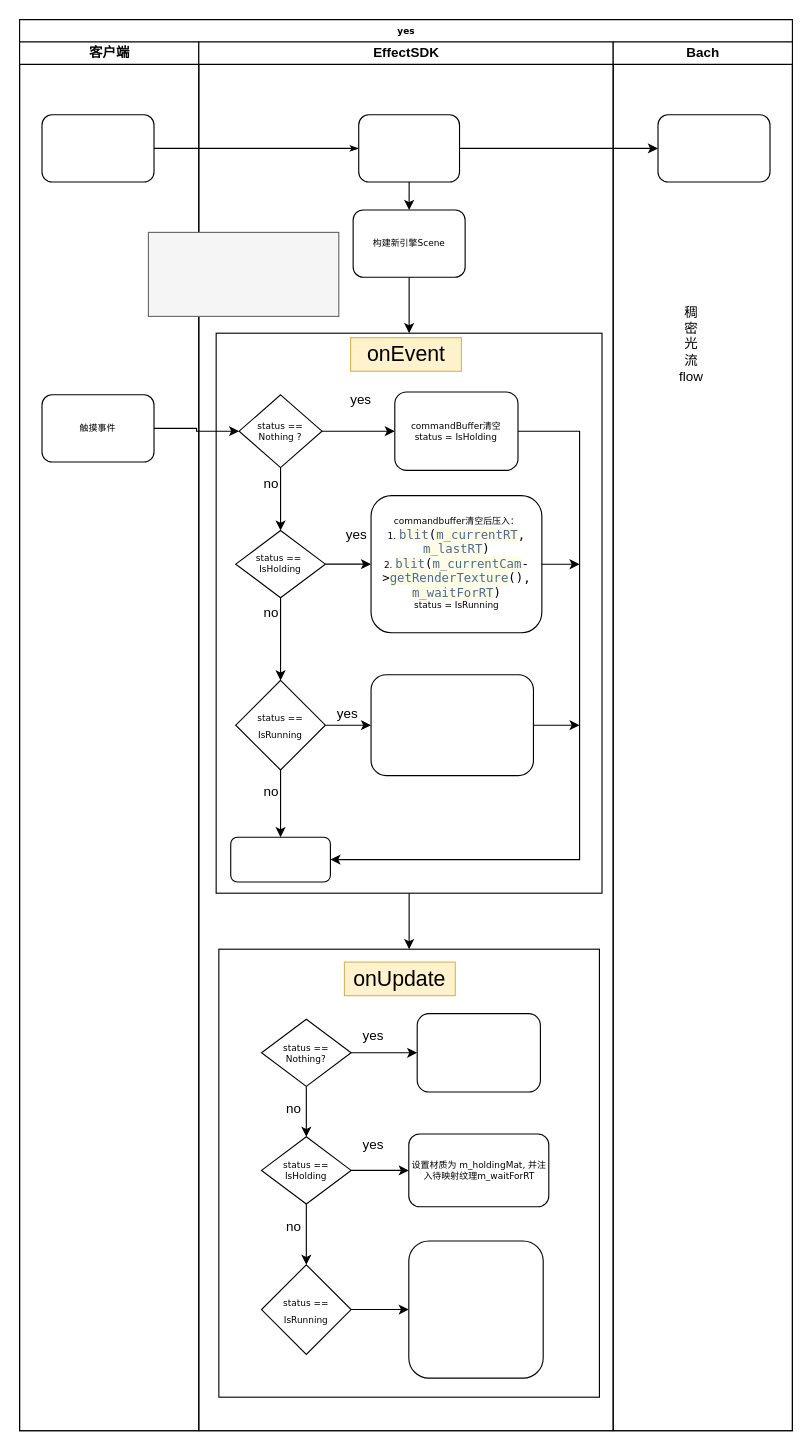
The diagram is 812 pixels wide and 1450 high, and some of its shapes have lost their labels. Each missing label, with the centre of its shape:
commandBuffer清空后压入: 1. blit ( m_currentRT , m_waitForRT ); status = Nothing: point (451, 725)
m_currentRT(当前纹理); m_lastRT(上一帧纹理); m_waitForRT(待映射纹理) m_algRT（稠密光流）: point (243, 273)
return: point (280, 859)
构建OpticalFlow算法: point (713, 148)
清空纹理，设置为默认材质 m_defaultMat: point (478, 1052)
点击贴纸: point (97, 148)
解析贴纸: point (409, 148)
设置材质为 m_runningMat, 并注入前一帧纹理 m_lastRT, 待映射纹理m_waitForRT, 光流算法纹理 m_algRT: point (475, 1309)
